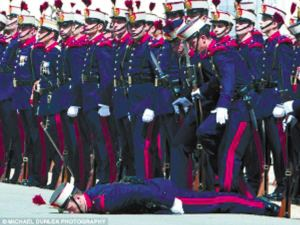10+: (1, 3, 299, 200)
down: (31, 168, 291, 214)
